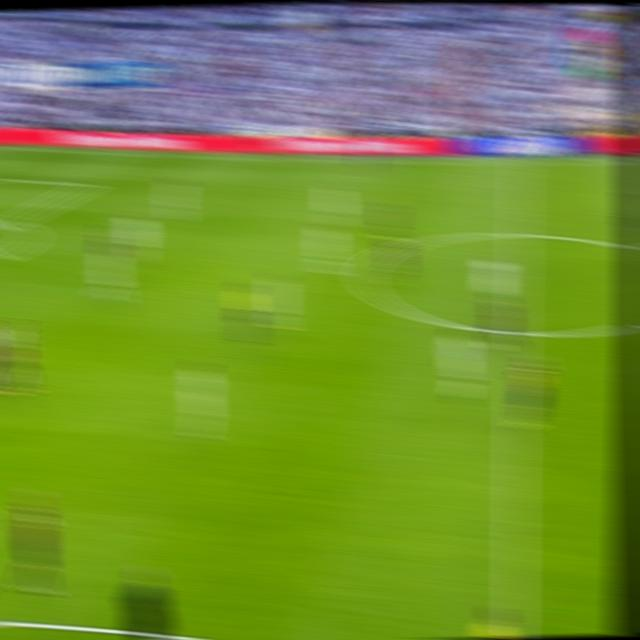bigarea_bottom_outter: (6, 210, 29, 227)
bigarea_top_inner: (6, 211, 29, 228)
halfcircle_bottom: (505, 318, 530, 344)
halfcircle_top: (507, 220, 533, 246)
midline_top_intersection: (510, 154, 532, 169)
